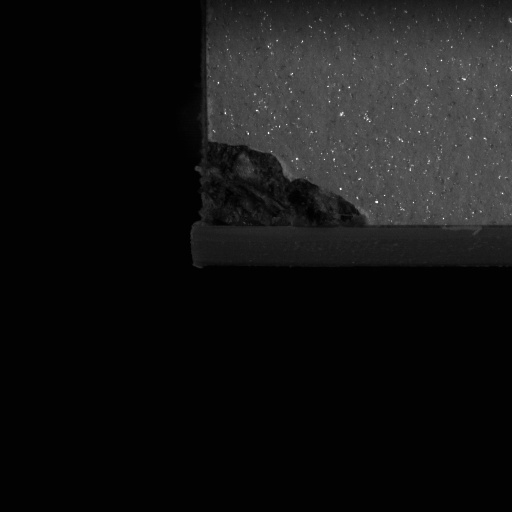bengque: (188, 142, 371, 232)
